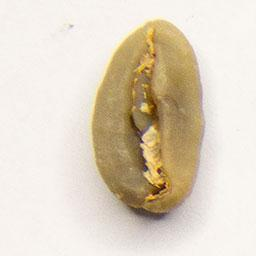longberry: (87, 15, 208, 220)
